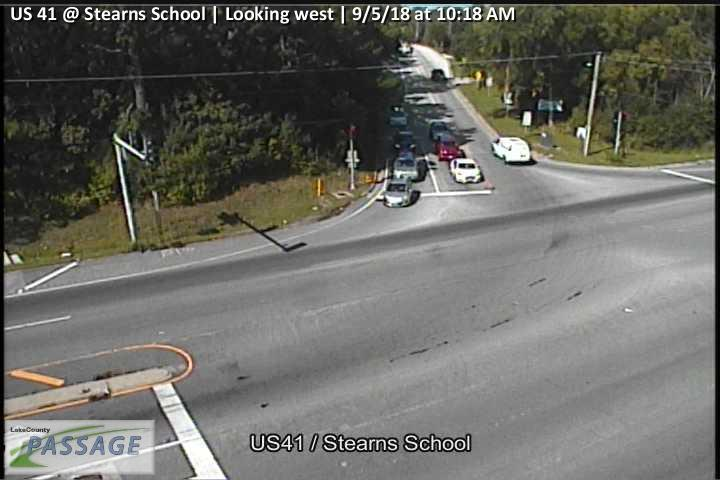SUV: (489, 135, 532, 163)
Sedan: (382, 177, 414, 208), (449, 157, 482, 183), (391, 153, 422, 179), (427, 118, 455, 143), (433, 139, 464, 161), (393, 128, 416, 151)
